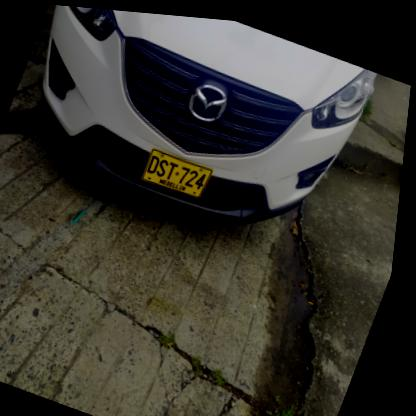placa: (138, 140, 220, 201)
